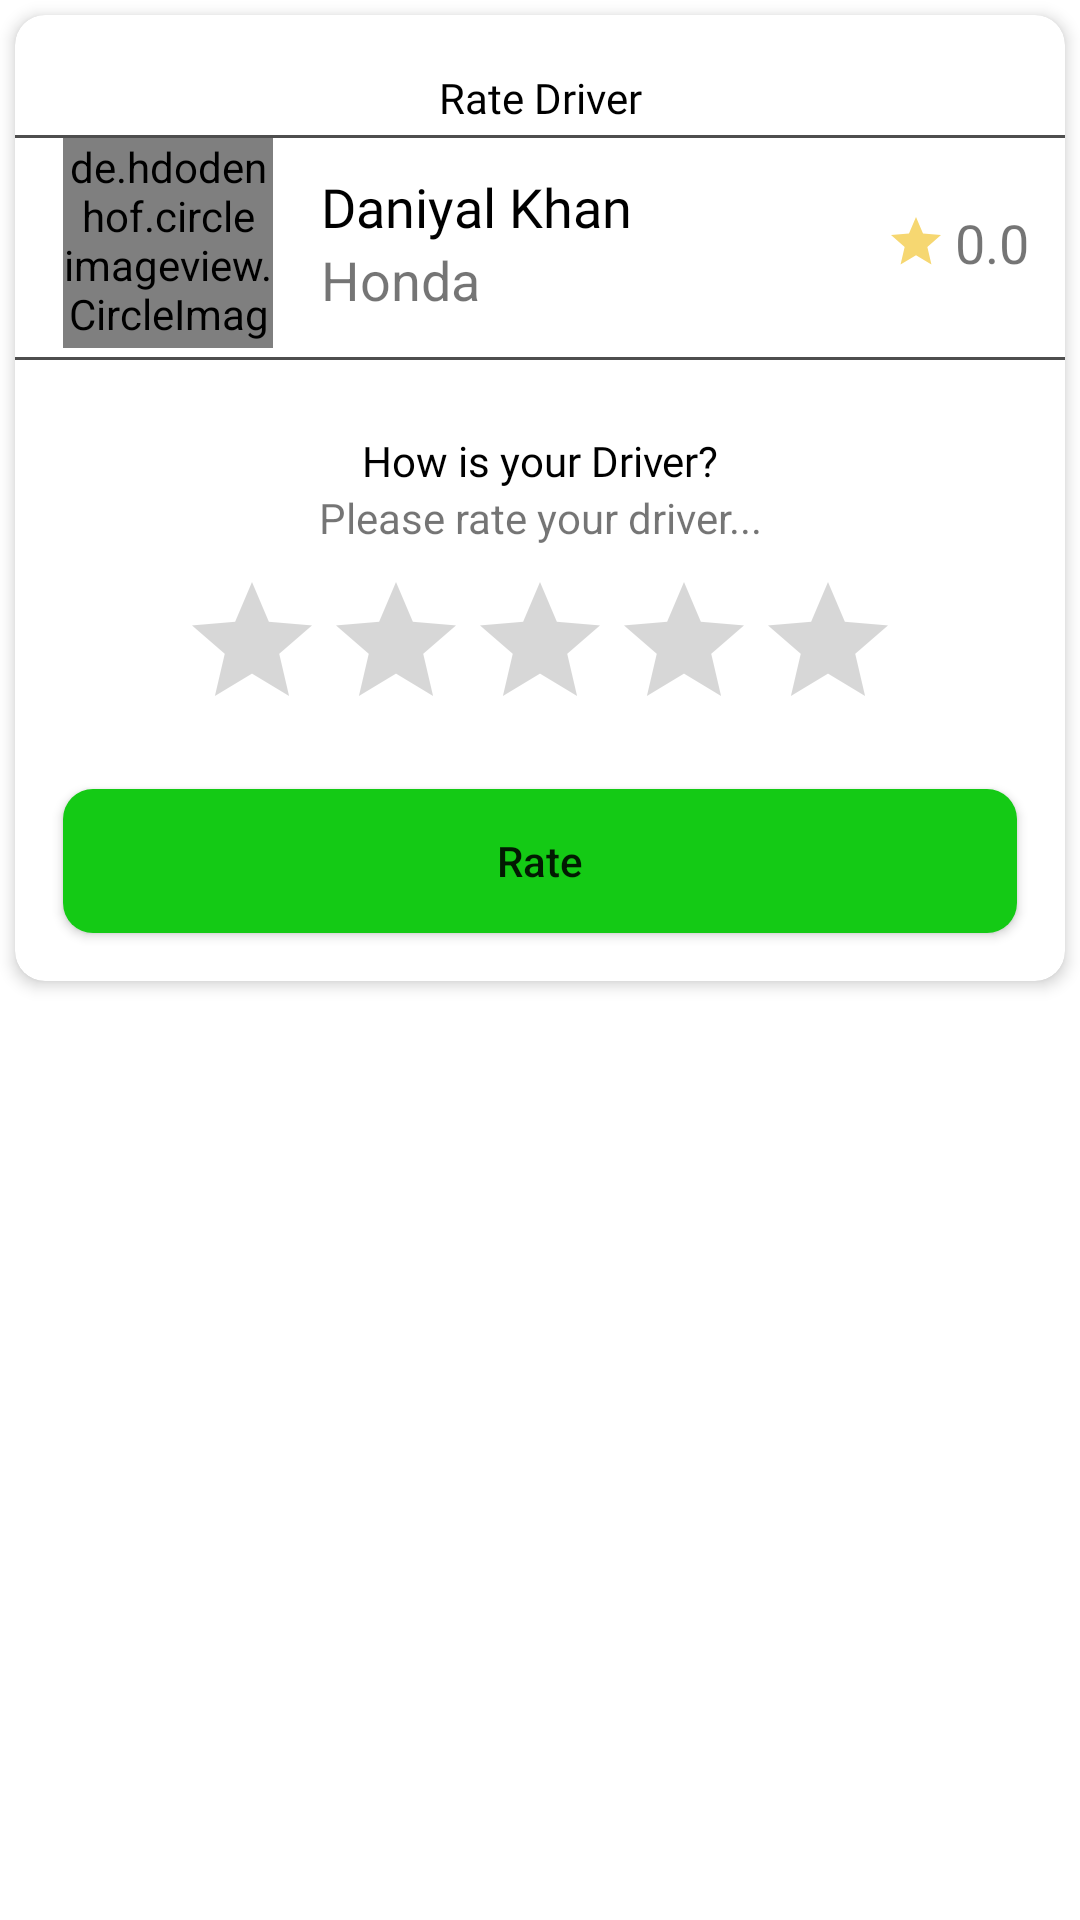

Point at icon controls on the screen. Image size 1080*1920, points as (x,y).
star: (916,240)
